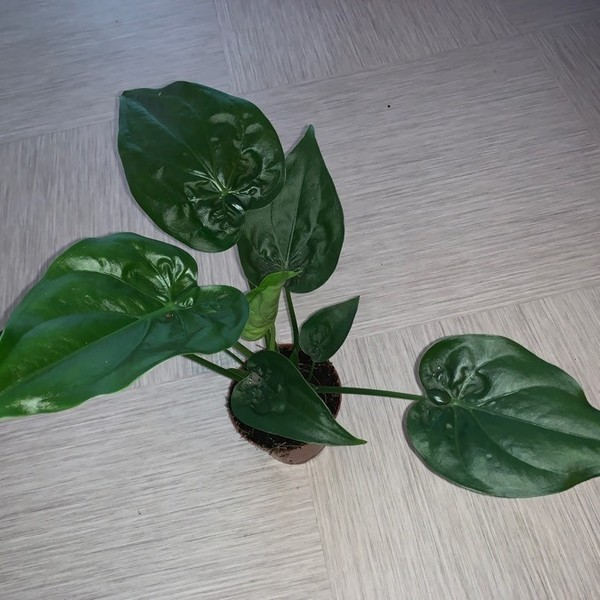obstacle: (23, 72, 585, 519)
